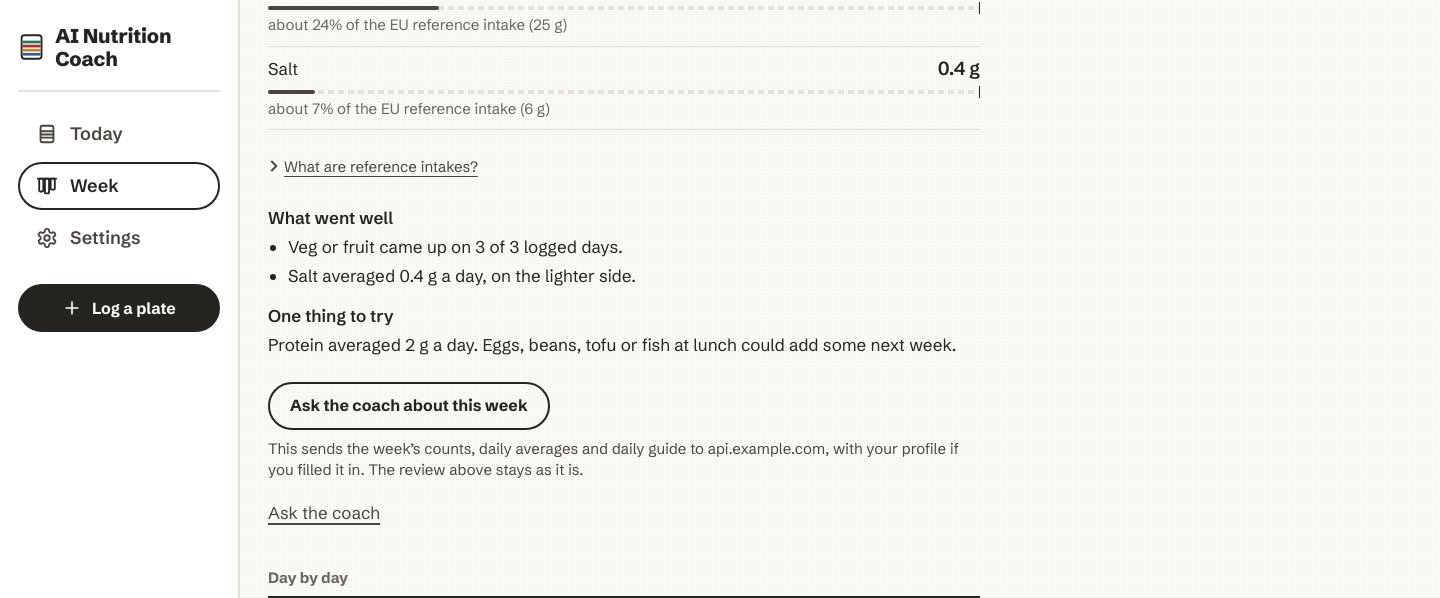
Test case: WeekAiSummary › a failure and a busy AI are calm lines
(page scrolled)
What coordinates should you click on to do the following:
click the button "Ask the coach about this week"
I would click on:
 (409, 406)
Its box is [268, 382, 550, 430].
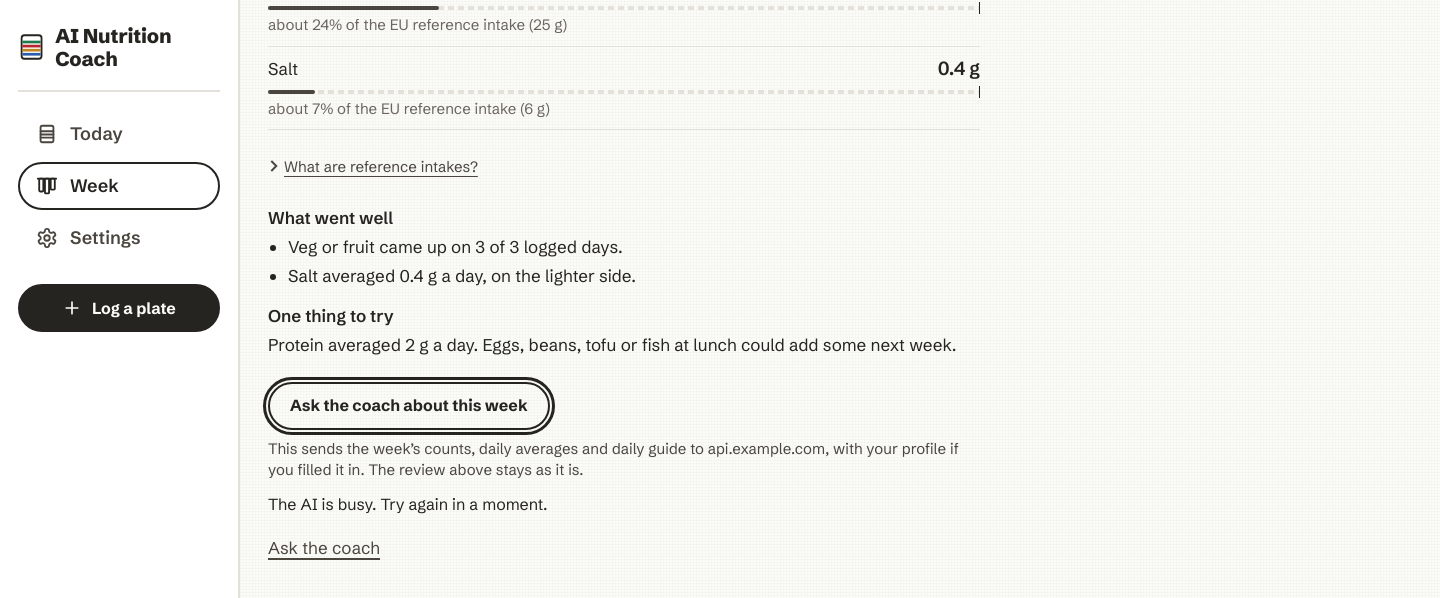
expect the text "The AI is busy. Try again in a moment." is shown: met, box [268, 494, 548, 514]
What coordinates should you click on to do the following:
click the button "Ask the coach about this week"
I would click on:
 (409, 406)
Its box is [268, 382, 550, 430].
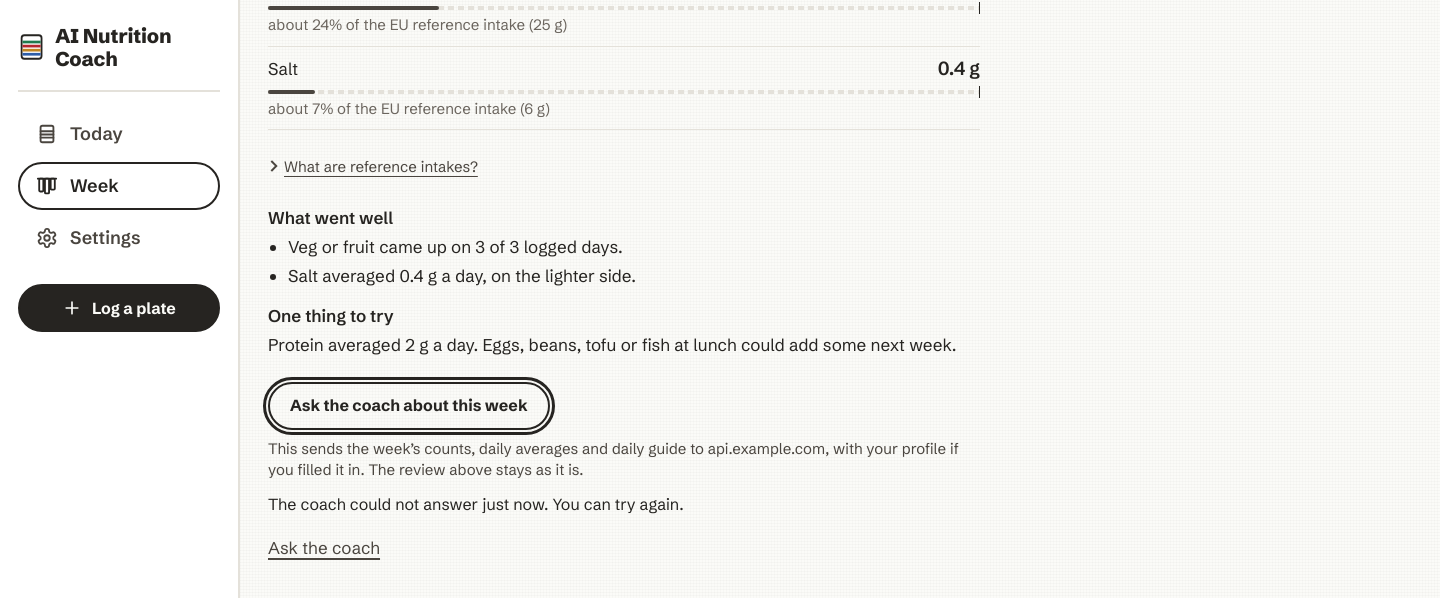
expect the text "The coach could not answer just now. You can try again." is shown: met, box [268, 494, 684, 514]
